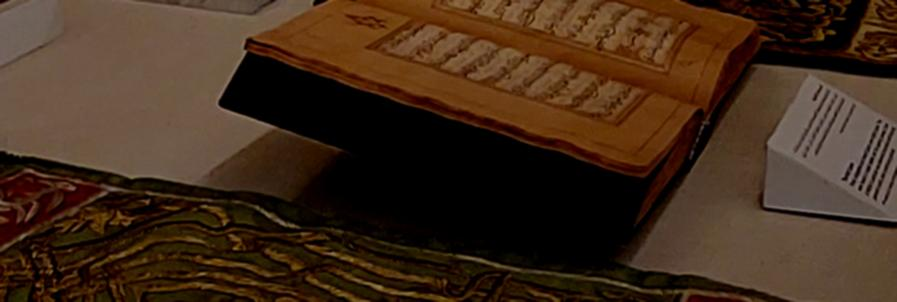The_HolyQuran: (211, 0, 759, 236)
